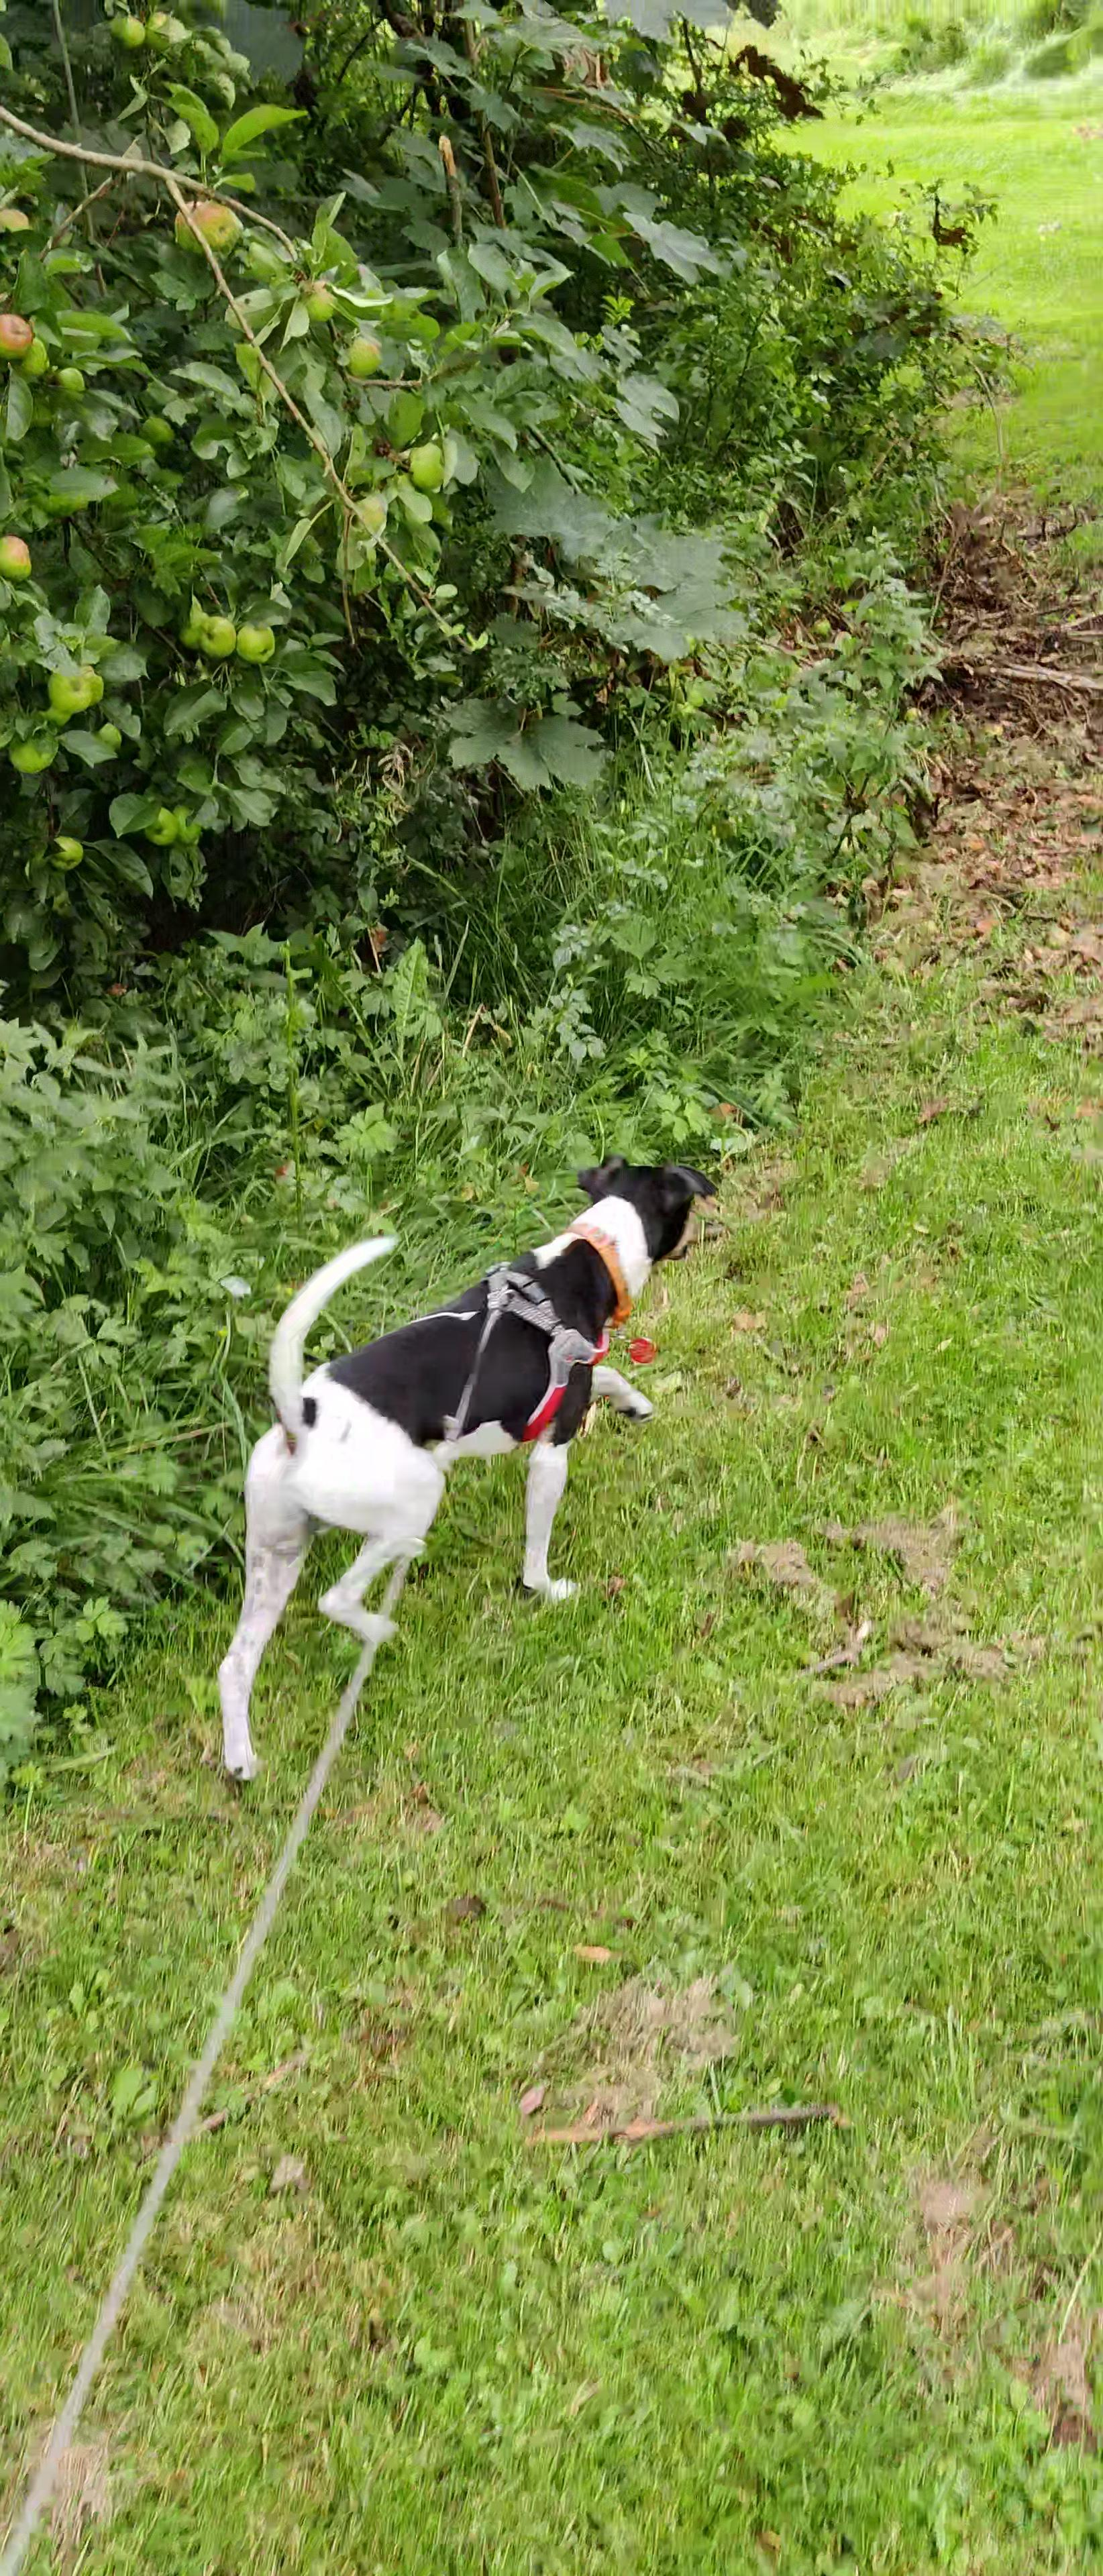Dog: (207, 1148, 720, 1804)
